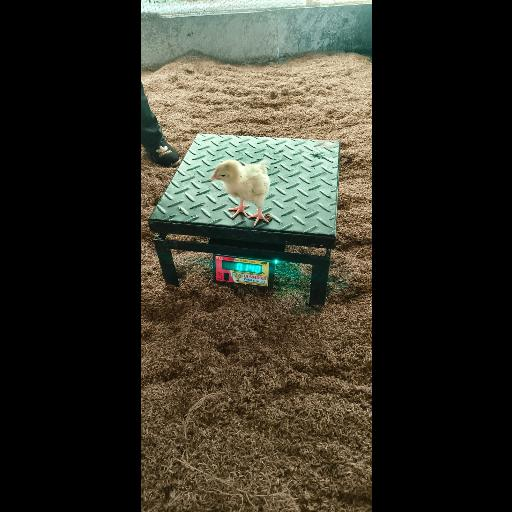chick: (211, 160, 271, 226)
